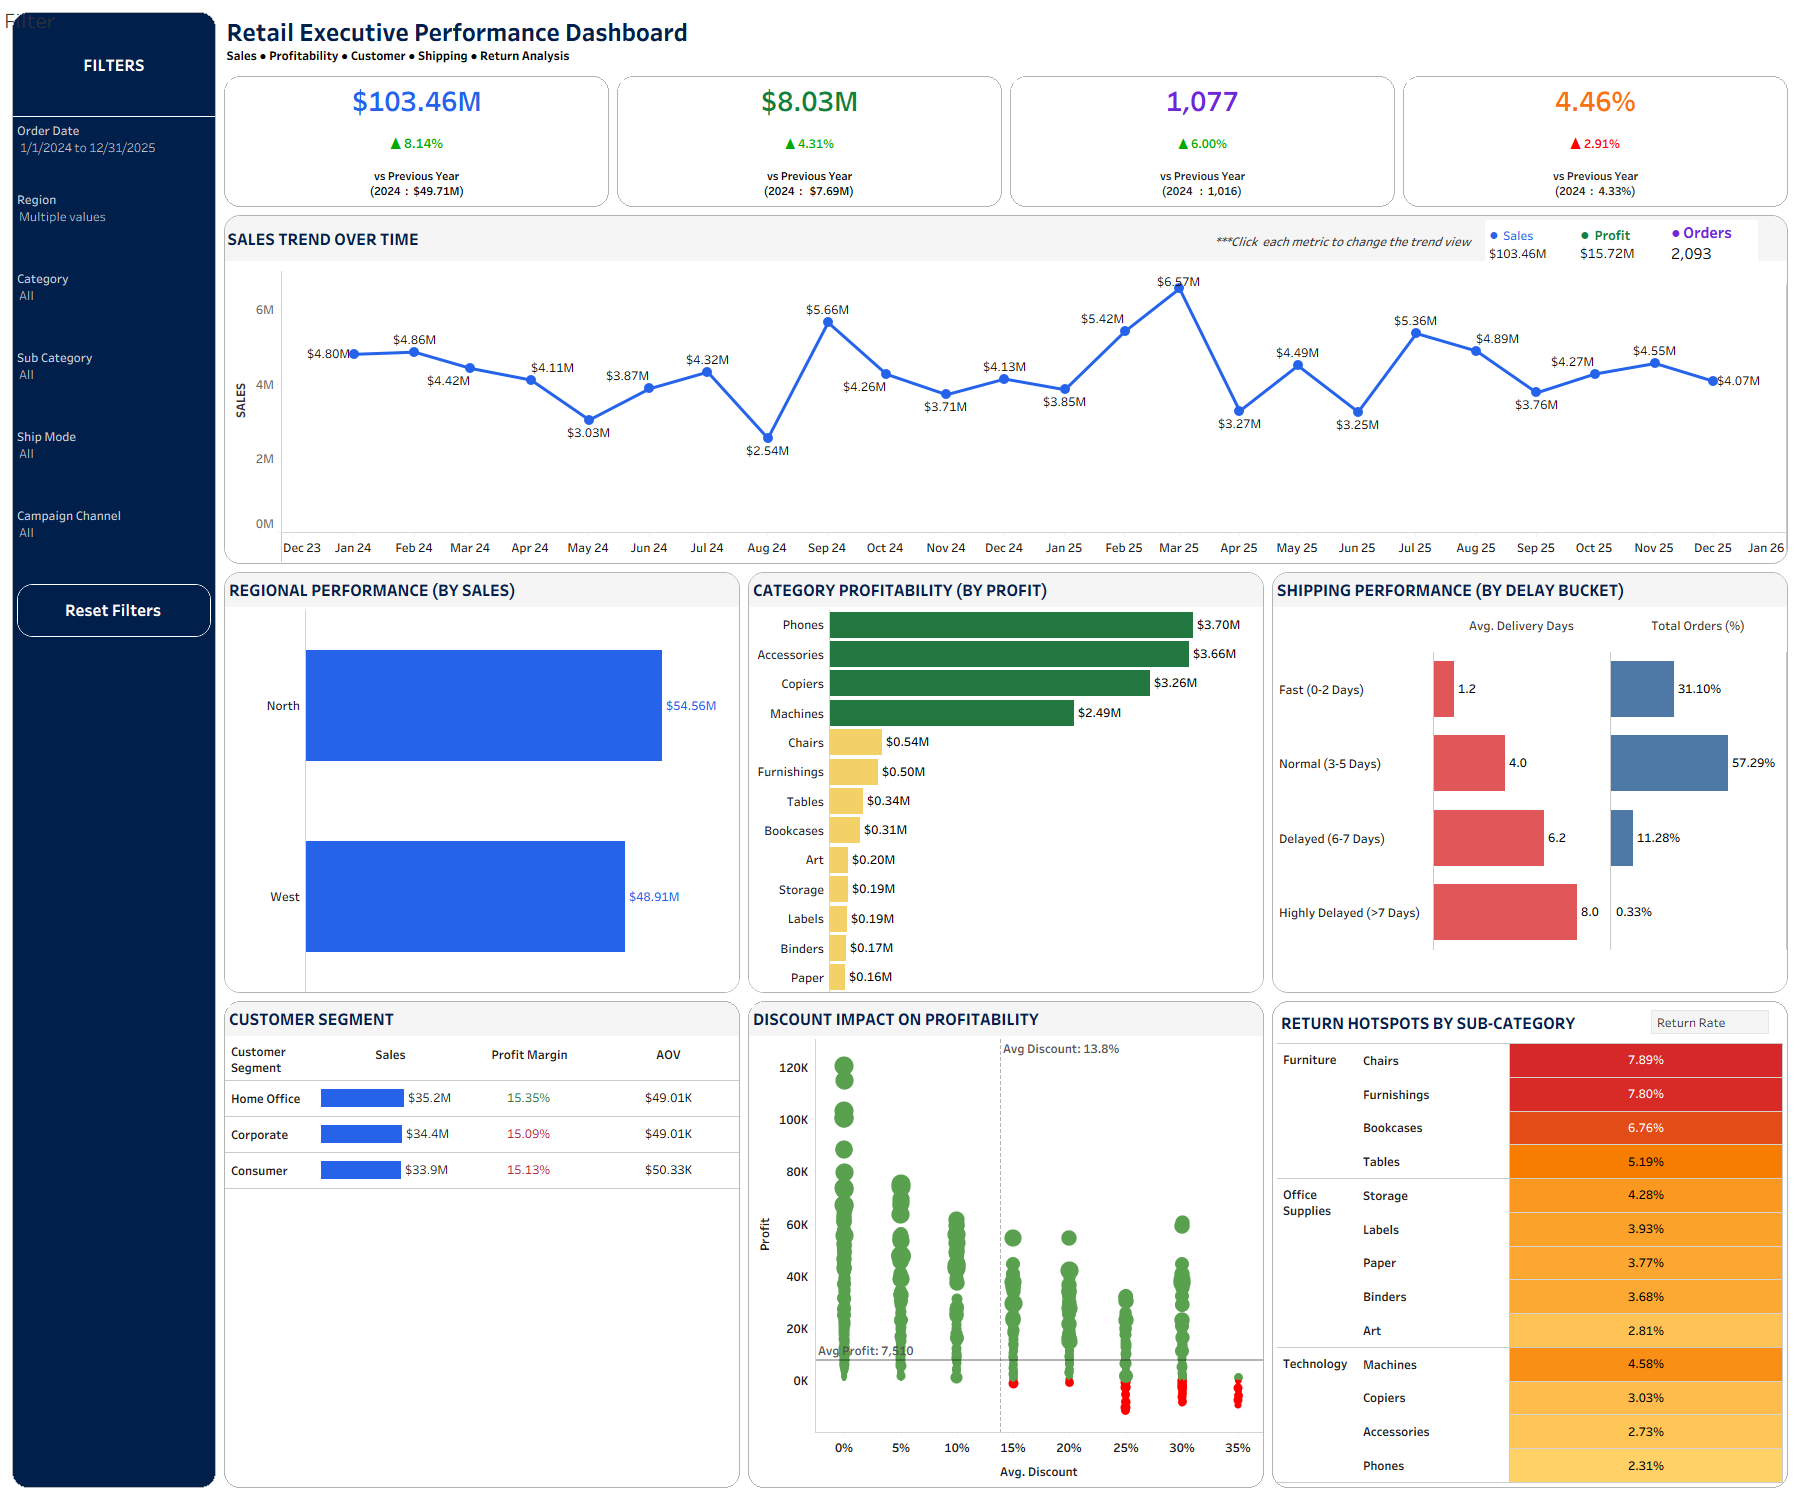

This screenshot's page, from the dashboard's own definition file:
{"tool":"tableau","page":{"name":"Retail Executive Performance Dashboard","canvas":[1800,1500],"ordinal":0},"visuals":[{"type":"worksheet","title":"Filter","mark":"Automatic","box":[0,0,1,1]},{"type":"text","box":[219.6,8,1572.4,64]},{"type":"text","box":[13,13,201.6,103]},{"type":"worksheet","title":"KPI - Sales","mark":"Square","box":[220,72,393,139]},{"type":"worksheet","title":"KPI - Profit","mark":"Square","box":[613,72,393,139]},{"type":"worksheet","title":"KPI - Orders","mark":"Square","box":[1006,72,393,139]},{"type":"worksheet","title":"KPI - Return Rate","mark":"Square","box":[1399,72,393,139]},{"type":"blank","box":[13,116,201.6,1]},{"type":"filter","title":"Filter","param":"[federated.1k62u9d15if11v11mv8w31dpu8bw].[none:order_date:qk]","box":[13,117,201.6,69]},{"type":"filter","title":"Filter","param":"[federated.1k62u9d15if11v11mv8w31dpu8bw].[none:region:nk]","box":[13,186,202,79]},{"type":"text","box":[224.6,216,1562.4,45]},{"type":"worksheet","title":"Sales","mark":"Automatic","box":[1485,220,91,46]},{"type":"worksheet","title":"Profit","mark":"Automatic","box":[1576,220,91,46]},{"type":"worksheet","title":"Orders","mark":"Automatic","box":[1667,220,90,46]},{"type":"text","box":[1212,226,263,30]},{"type":"worksheet","title":"Trend Over time Orders","mark":"Automatic","rows":["Calculation_0691335389483042","Calculation_0691335389483042"],"cols":["order_date"],"box":[224.6,261,1562.4,302]},{"type":"worksheet","title":"Trend Over time","mark":"Automatic","rows":["Calculation_0691335389483042","Calculation_0691335389483042"],"cols":["order_date"],"box":[224.6,261,1562.4,302]},{"type":"filter","title":"Filter","param":"[federated.1k62u9d15if11v11mv8w31dpu8bw].[none:category:nk]","box":[13,265,202,79]},{"type":"filter","title":"Filter","param":"[federated.1k62u9d15if11v11mv8w31dpu8bw].[none:sub_category:nk]","box":[13,344,202,79]},{"type":"filter","title":"Filter","param":"[federated.1k62u9d15if11v11mv8w31dpu8bw].[none:ship_mode:nk]","box":[13,423,202,79]},{"type":"filter","title":"Filter","param":"[federated.1k62u9d15if11v11mv8w31dpu8bw].[none:campaign_channel:nk]","box":[13,502,202,78]},{"type":"worksheet","title":"Regional Performance","mark":"Bar","rows":["region"],"cols":["sales"],"box":[220,568,524,429]},{"type":"worksheet","title":"Category Profitability","mark":"Bar","rows":["sub_category"],"cols":["profit"],"box":[744,568,524,429]},{"type":"worksheet","title":"Shipping Delay","mark":"Automatic","rows":["Calculation_0691334957989892"],"cols":["delivery_days","Calculation_0691335421763621","Calculation_0691334958067717","Calculation_0691335421763621"],"box":[1268,568,524,429]},{"type":"worksheet","title":"RESET","mark":"Automatic","box":[13,580,201.6,61]},{"type":"blank","box":[13,641,201.6,846]},{"type":"worksheet","title":"Customer Segment","mark":"Automatic","rows":["customer_segment"],"cols":["sales","Calculation_0691335410819108","Calculation_0691335410819108","Calculation_0691335410819108","Calculation_0691335410819108","Calculation_0691335410819108"],"box":[219.6,997,524.1,495]},{"type":"worksheet","title":"DISCOUNT vs PROFIT - Cust","mark":"Circle","rows":["profit"],"cols":["discount"],"box":[744,997,524,495]},{"type":"worksheet","title":"Return Analysis Orders","mark":"Square","rows":["category","sub_category"],"box":[1273,1002,514,484.9]},{"type":"worksheet","title":"Return Analysis Orders  $","mark":"Square","rows":["category","sub_category"],"box":[1273,1002,514,484.9]},{"type":"worksheet","title":"Return Analysis %","mark":"Square","rows":["category","sub_category"],"box":[1273,1002,514,484.9]},{"type":"parameter","param":"[Parameters].[Parameter 3]","box":[1651,1010,118,24]}]}

Visuals, with their boxes in screenshot pixels (x1, y1, x2, y2), scaled from the page's 1800x1500 canvas onto the 1800x1500 screenshot:
"Filter" worksheet: detection(0, 0, 1, 1)
text: detection(220, 8, 1792, 72)
text: detection(13, 13, 215, 116)
"KPI - Sales" worksheet (Square marks): detection(220, 72, 613, 211)
"KPI - Profit" worksheet (Square marks): detection(613, 72, 1006, 211)
"KPI - Orders" worksheet (Square marks): detection(1006, 72, 1399, 211)
"KPI - Return Rate" worksheet (Square marks): detection(1399, 72, 1792, 211)
blank: detection(13, 116, 215, 117)
"Filter" filter: detection(13, 117, 215, 186)
"Filter" filter: detection(13, 186, 215, 265)
text: detection(225, 216, 1787, 261)
"Sales" worksheet: detection(1485, 220, 1576, 266)
"Profit" worksheet: detection(1576, 220, 1667, 266)
"Orders" worksheet: detection(1667, 220, 1757, 266)
text: detection(1212, 226, 1475, 256)
"Trend Over time Orders" worksheet: detection(225, 261, 1787, 563)
"Trend Over time" worksheet: detection(225, 261, 1787, 563)
"Filter" filter: detection(13, 265, 215, 344)
"Filter" filter: detection(13, 344, 215, 423)
"Filter" filter: detection(13, 423, 215, 502)
"Filter" filter: detection(13, 502, 215, 580)
"Regional Performance" worksheet (Bar marks): detection(220, 568, 744, 997)
"Category Profitability" worksheet (Bar marks): detection(744, 568, 1268, 997)
"Shipping Delay" worksheet: detection(1268, 568, 1792, 997)
"RESET" worksheet: detection(13, 580, 215, 641)
blank: detection(13, 641, 215, 1487)
"Customer Segment" worksheet: detection(220, 997, 744, 1492)
"DISCOUNT vs PROFIT - Cust" worksheet (Circle marks): detection(744, 997, 1268, 1492)
"Return Analysis Orders" worksheet (Square marks): detection(1273, 1002, 1787, 1487)
"Return Analysis Orders  $" worksheet (Square marks): detection(1273, 1002, 1787, 1487)
"Return Analysis %" worksheet (Square marks): detection(1273, 1002, 1787, 1487)
parameter: detection(1651, 1010, 1769, 1034)
